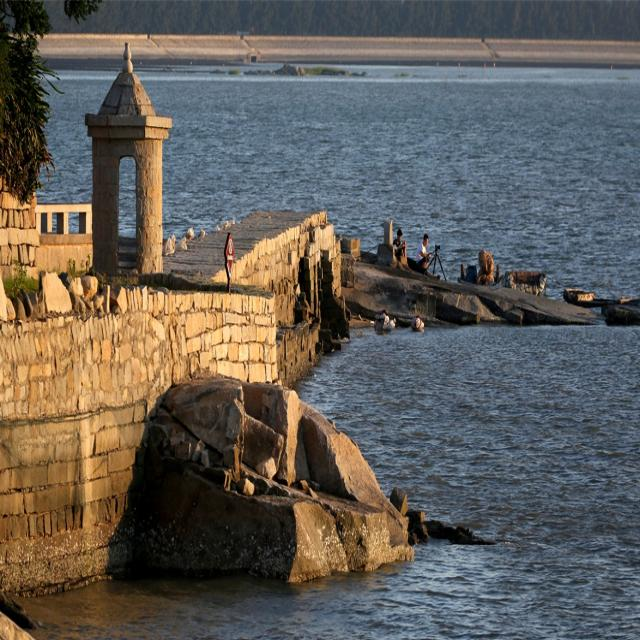reef: (225, 396, 523, 620)
